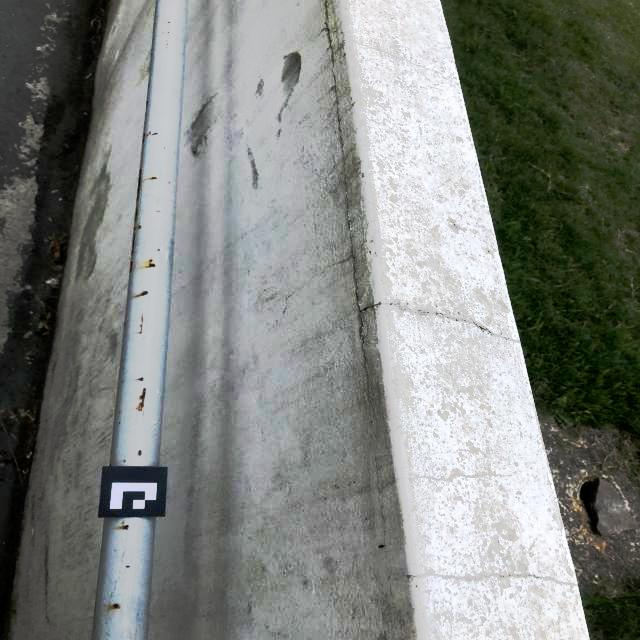Corrosion: (135, 387, 147, 416), (136, 168, 142, 204), (136, 314, 145, 334), (116, 521, 129, 530), (131, 233, 135, 256), (146, 259, 156, 268), (134, 291, 148, 297), (135, 206, 139, 223), (113, 604, 121, 609), (136, 377, 144, 382), (130, 261, 133, 273), (142, 133, 145, 144), (148, 177, 157, 180), (138, 450, 142, 456), (146, 101, 148, 108), (152, 133, 158, 135), (124, 322, 126, 327), (134, 226, 136, 231), (138, 225, 141, 228), (126, 566, 130, 568), (158, 197, 160, 201), (148, 84, 150, 88), (124, 459, 126, 462), (158, 248, 160, 251), (159, 174, 162, 176), (156, 211, 162, 212), (151, 53, 153, 56), (168, 21, 171, 23), (164, 147, 166, 149), (110, 463, 111, 466), (168, 182, 171, 183)
